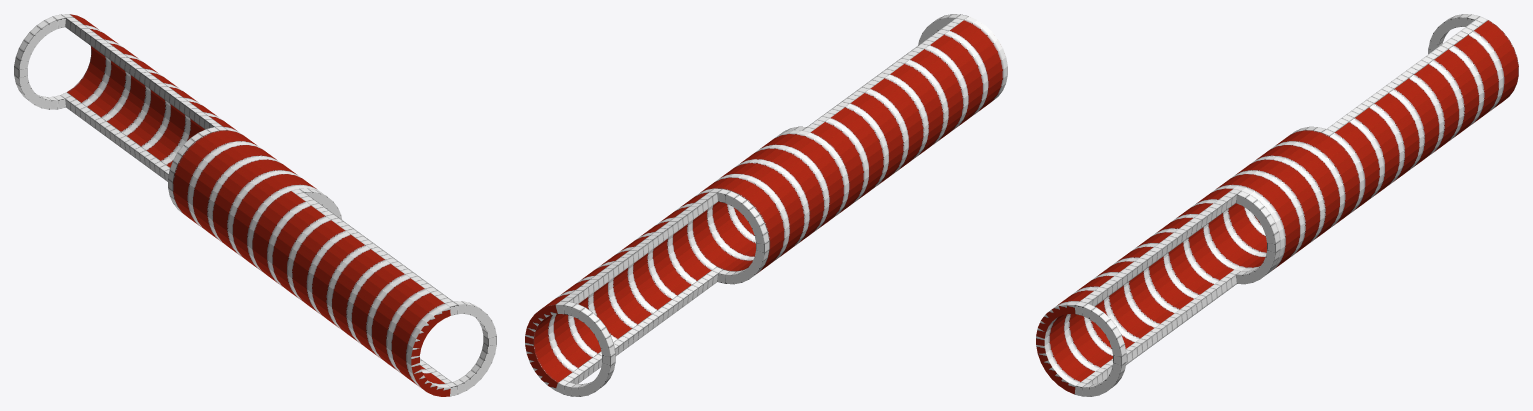
The model's file is pipe2.dae.
3 renders of one model, left to right at view 1: azimuth 30°, elevation 25°; view 2: azimuth 150°, elevation 25°; view 3: azimuth 330°, elevation 25°, orthographic.
Parts seen in each view (by area): view 1: pipe2; view 2: pipe2; view 3: pipe2.
Part boxes in pixels (x1,y1,x2,y2): pipe2: [14, 14, 496, 396]; pipe2: [525, 14, 1007, 396]; pipe2: [1036, 14, 1518, 396].
Size of the model in its own units: 4.98 by 40 by 4.98.
